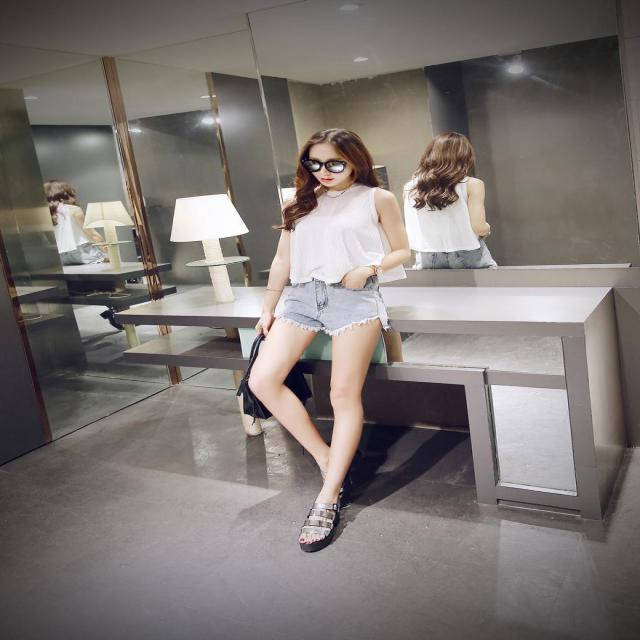shorts: (276, 270, 388, 332), (416, 235, 499, 270)
vest: (291, 182, 409, 284), (404, 174, 481, 253)
